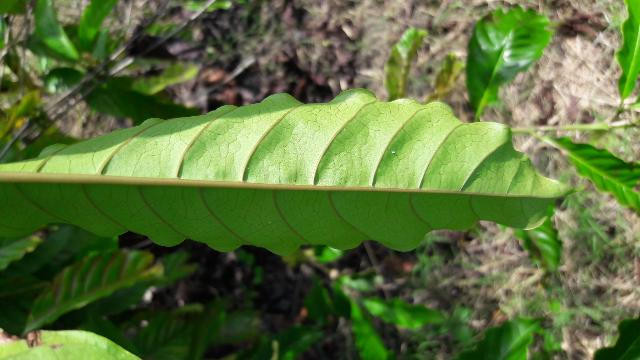healthy: (0, 89, 580, 255)
